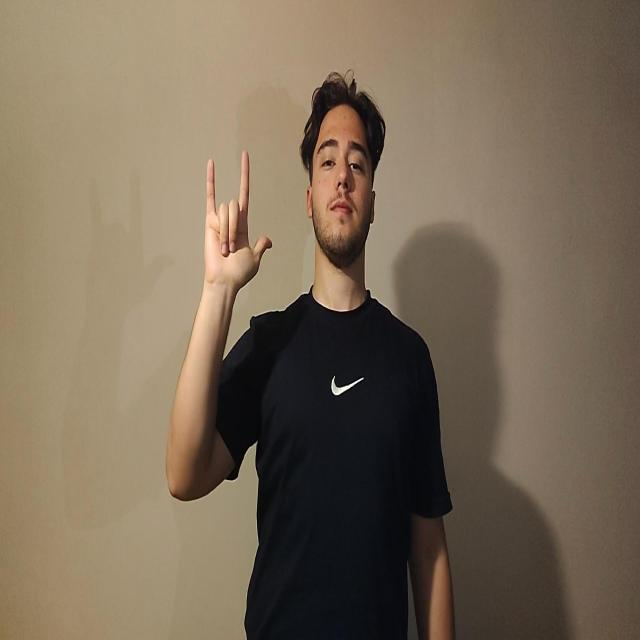iloveyou: (203, 149, 272, 294)
